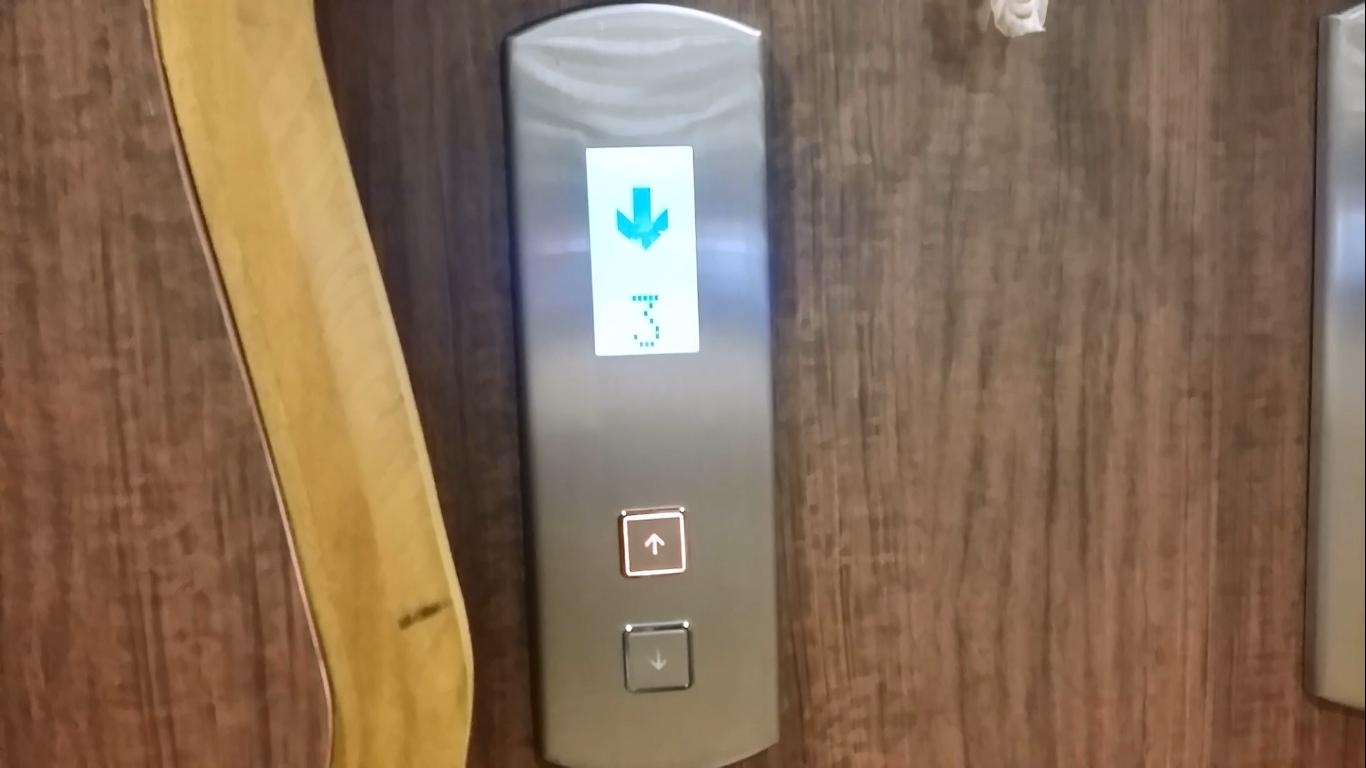down: (620, 617, 694, 695)
led: (584, 146, 701, 359)
up: (618, 505, 688, 578)
